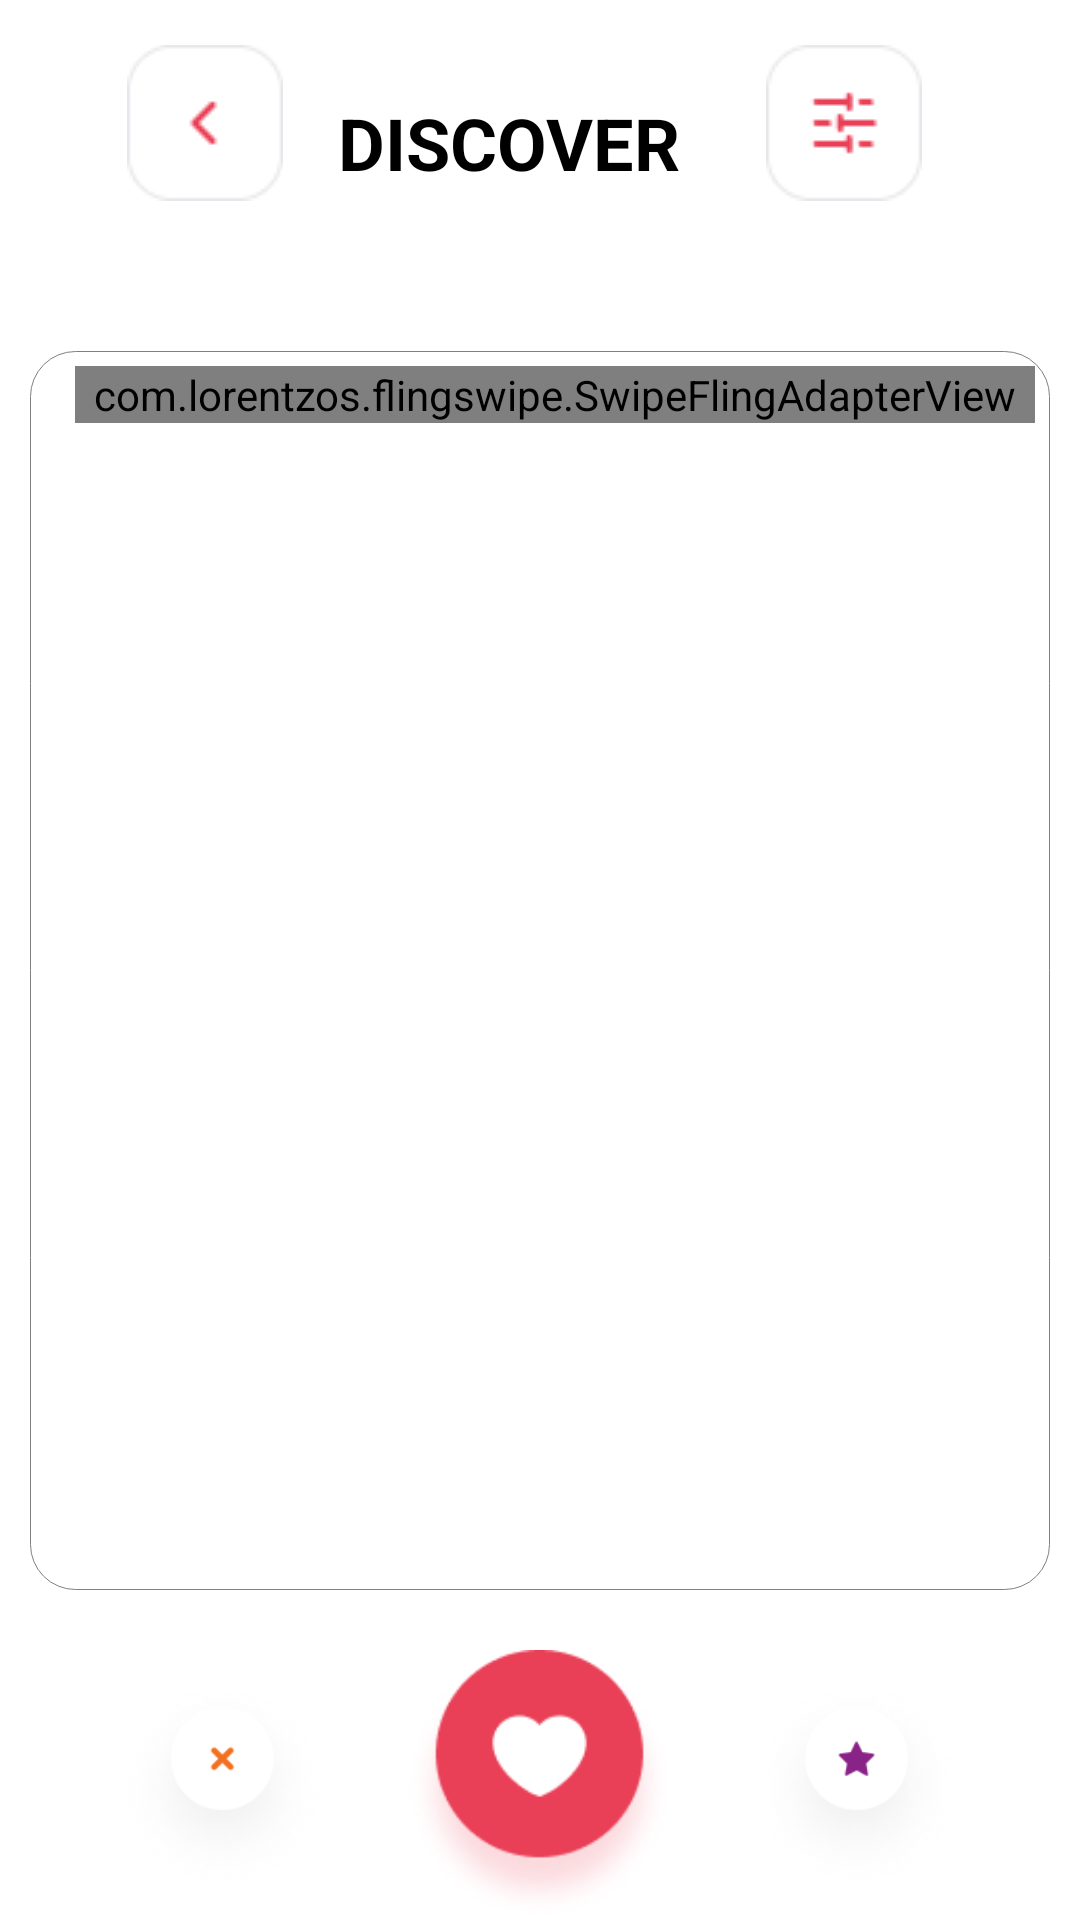

Screen size 1080*1920. Icon name, then its center in pixels as [x,y]:
back: [205,123]
dislike: [222,1759]
filter: [844,123]
like: [539,1766]
star: [856,1758]
